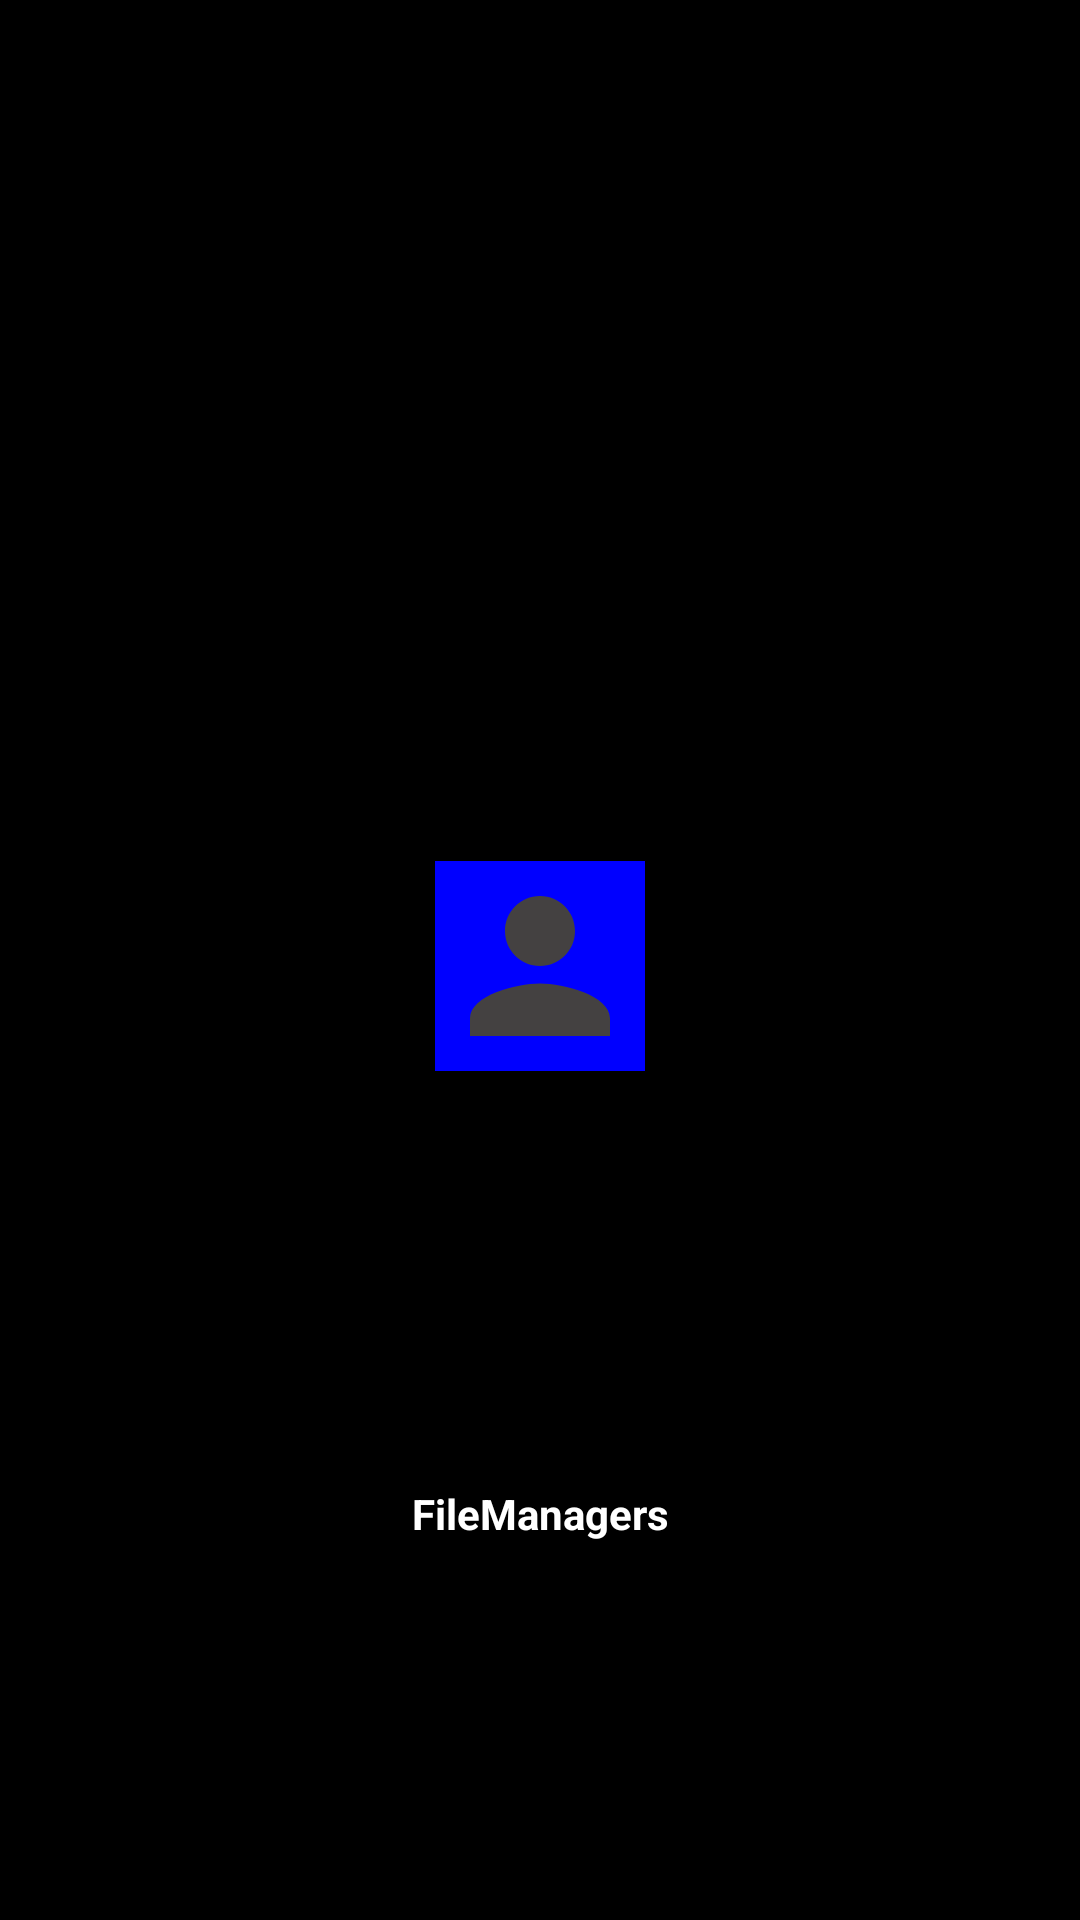

Icons on this 1080px×1920px Android screen, each with the point to tap as (x=x, y=y):
person: (x=540, y=966)
